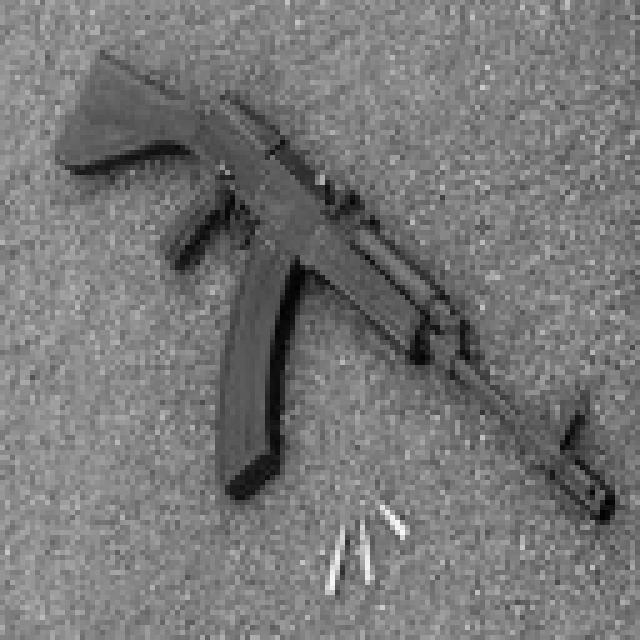Rifle: (7, 19, 640, 571)
